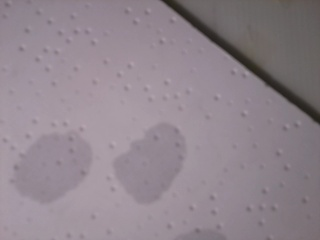Water_detected: (24, 131, 85, 188), (123, 127, 178, 188)
